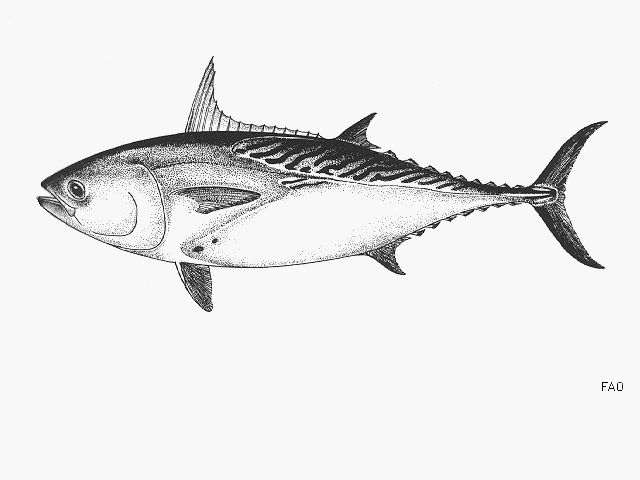fish: (36, 56, 611, 313)
